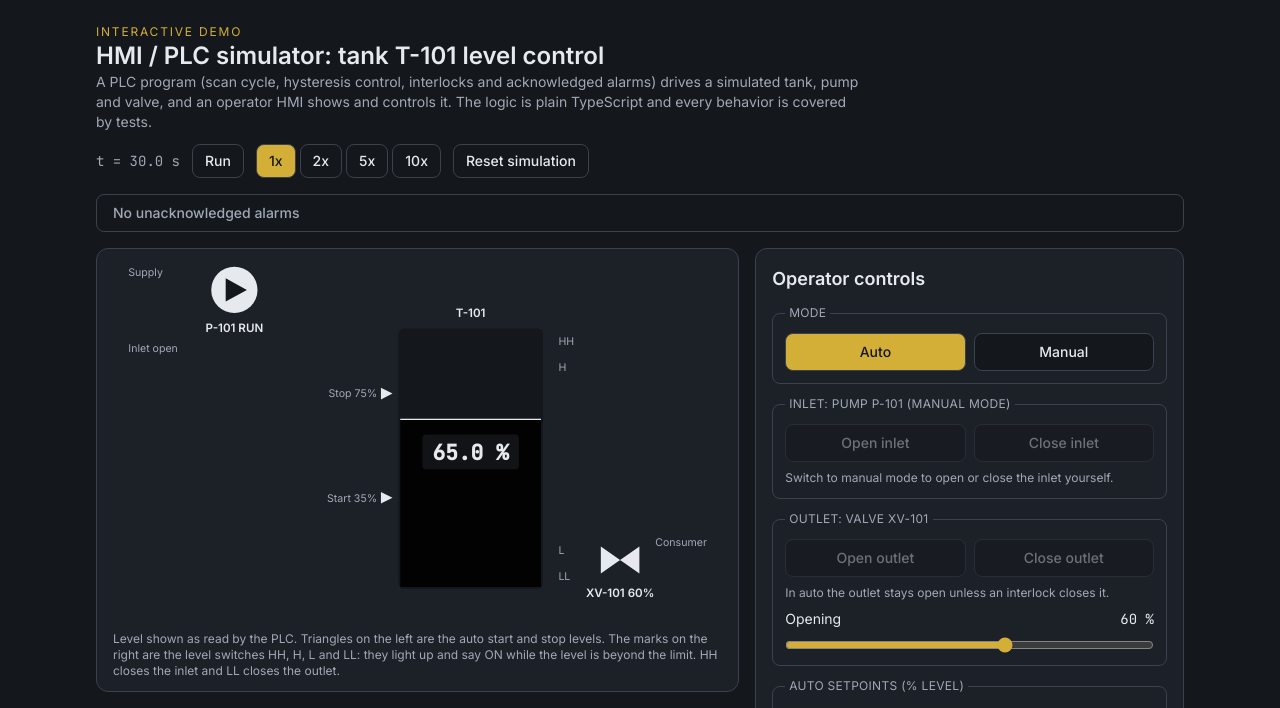
reset › returns the simulation to its initial state
Click the button "Reset simulation" at [521, 161], box [453,144,589,178]
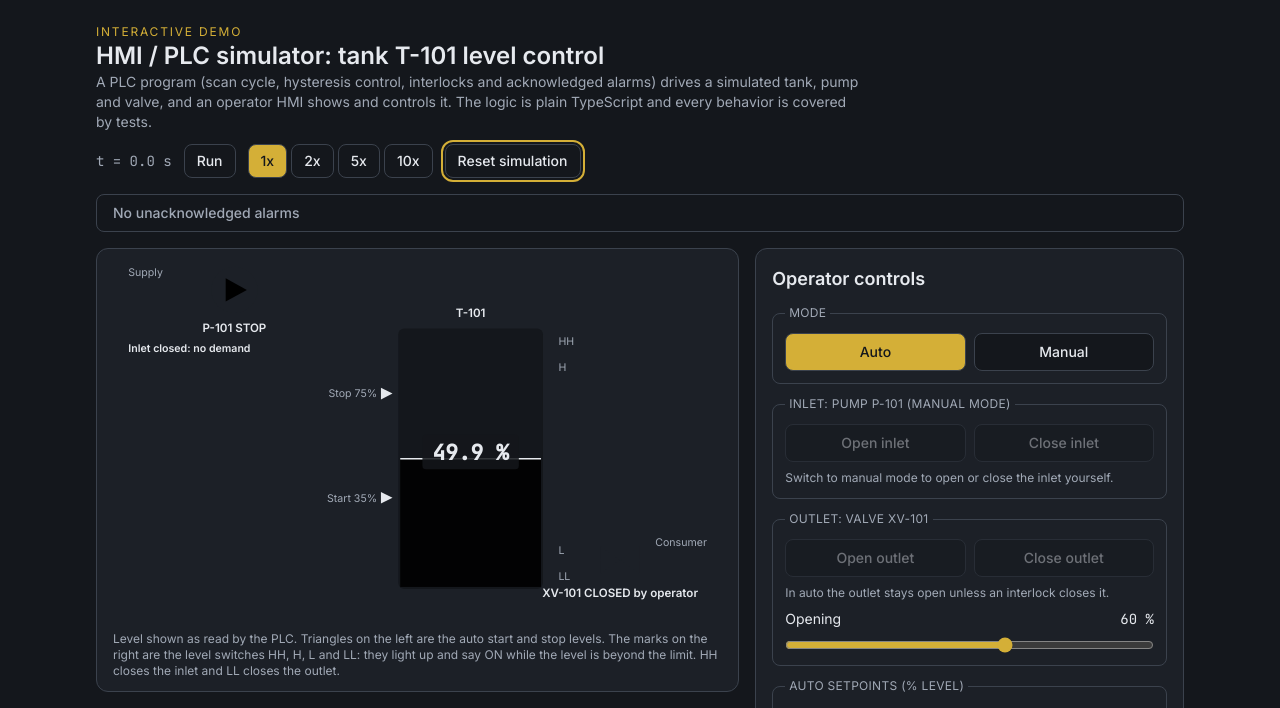
Check: the text named "Simulation time" reads "t = 0.0 s", box [96,151,172,171]
